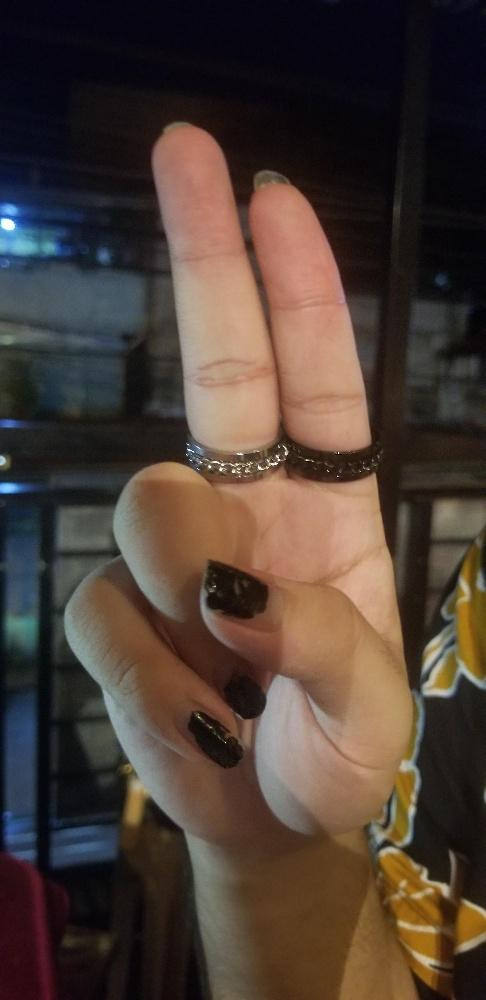u: (61, 121, 416, 837)
